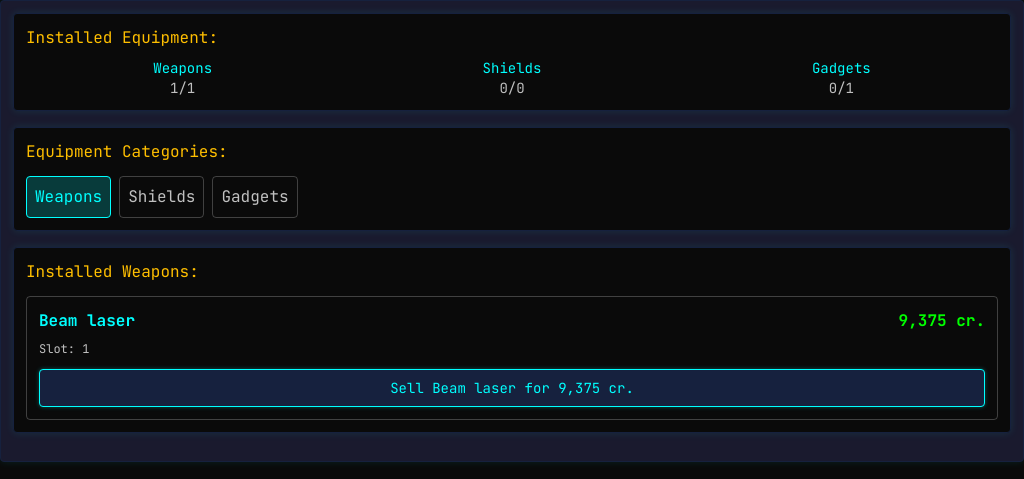
SellEquipmentScreen › should show no shields message when switching to empty shields
Click the button "Shields": (162, 197) [119,176,204,218]
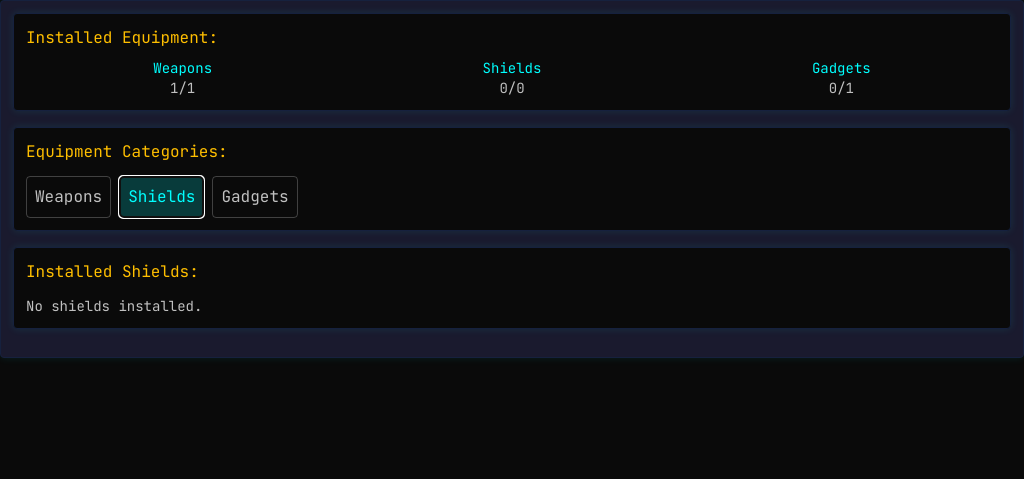
Result: the text "No shields installed." is shown at [26,297,202,315]
